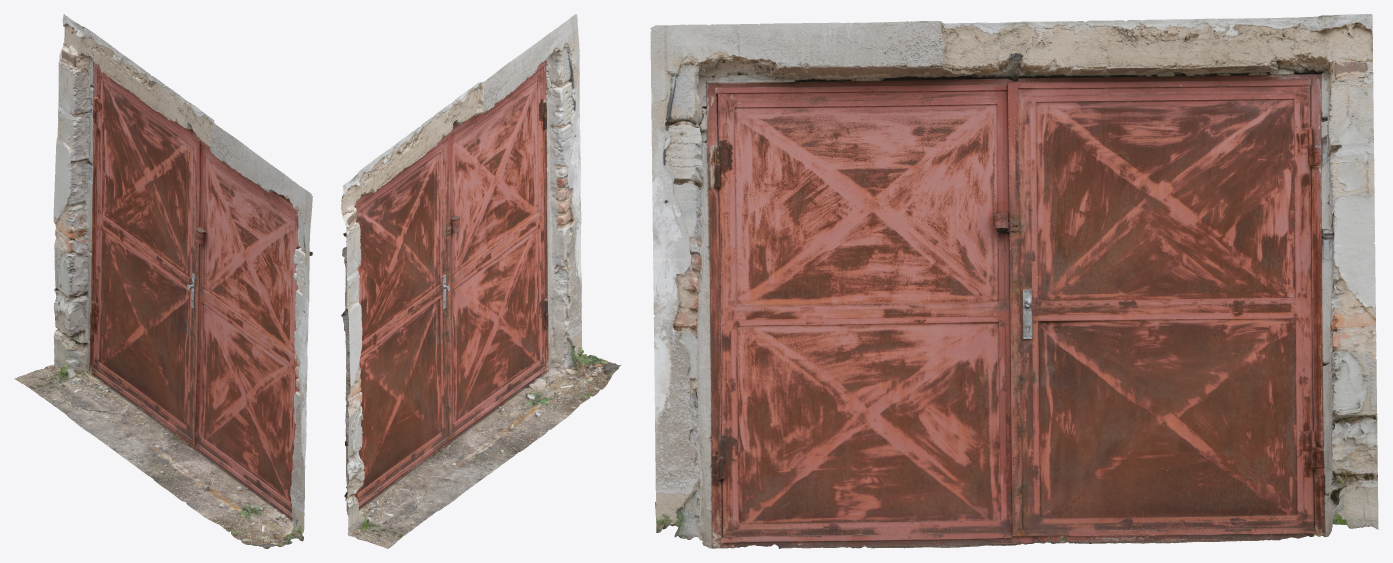
Rendered from sf-old-red-rusty-garage-door-4d9d1f.glb.
The picture shows the model from 3 angles, left to right: view 1: azimuth 30°, elevation 25°; view 2: azimuth 150°, elevation 25°; view 3: azimuth 270°, elevation 25°; orthographic projection. The views are drawn at different scales.
Parts seen in each view (by area): view 1: Model_material0_0, Model_material1_0, Model_material2_0; view 2: Model_material0_0, Model_material1_0, Model_material2_0; view 3: Model_material1_0, Model_material0_0, Model_material2_0.
Boxes of the visible parts, <box> form: Model_material0_0: <box>14,19,294,548</box>; Model_material1_0: <box>62,14,312,541</box>; Model_material2_0: <box>53,32,312,405</box>; Model_material0_0: <box>343,88,620,548</box>; Model_material1_0: <box>341,27,590,437</box>; Model_material2_0: <box>341,14,579,461</box>; Model_material1_0: <box>651,14,1372,548</box>; Model_material0_0: <box>655,14,1378,548</box>; Model_material2_0: <box>650,17,1377,472</box>.
Bounding box in the file's own units: 321 × 1537 × 1904.
Materials: 3 (3 with a texture image).
